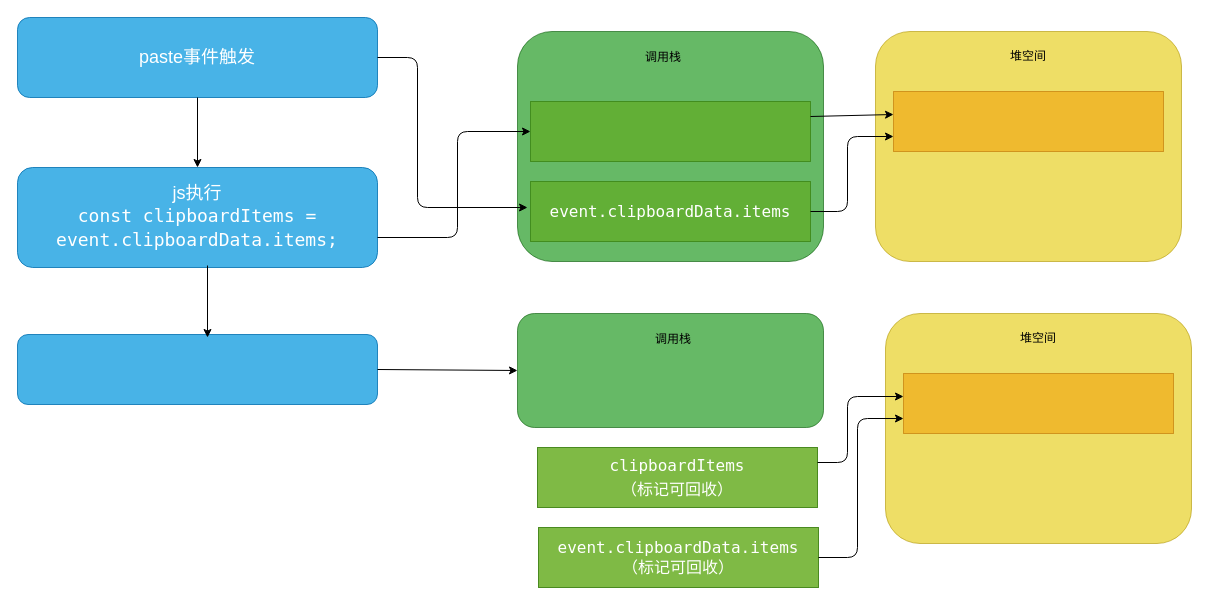
Image size: 1209x605. Some labels were removed from this diagram. Each missing label, with the centre of its shape:
"[ DataTransferItem{ kind:'file', type:'image/jpeg'} ]" goes at point 1028,121.
"clipboardItems" goes at point 670,131.
"paste事件完成" goes at point 197,369.
